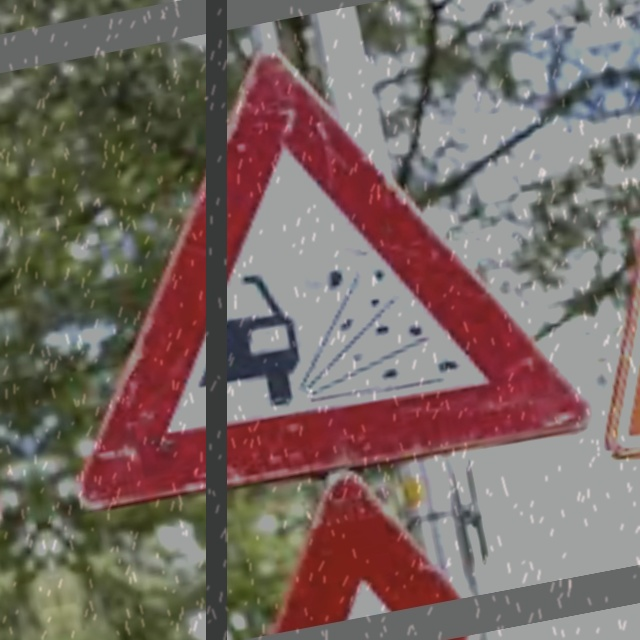Loose_Gravel: (23, 8, 593, 518)
